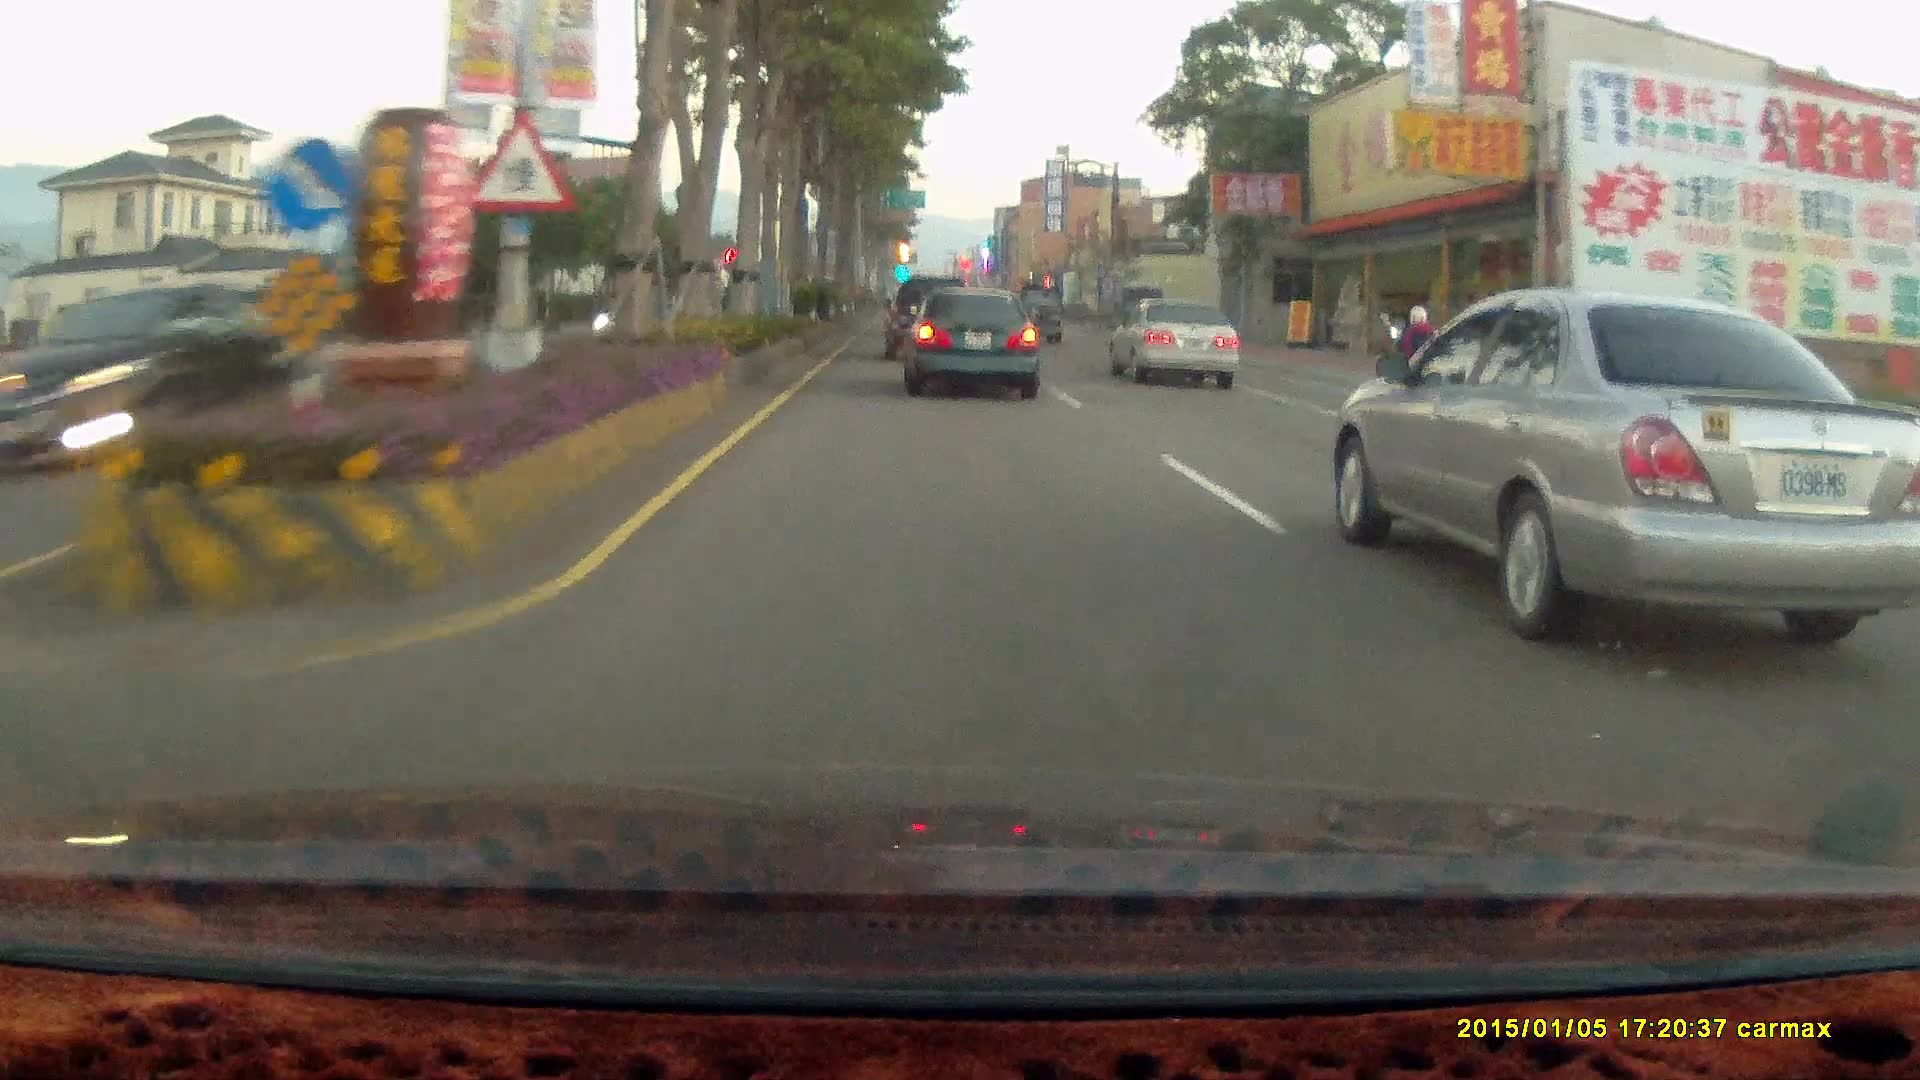rider: (1388, 301, 1447, 410), (1389, 320, 1445, 429)
vehicle: (1342, 289, 1920, 636), (0, 289, 288, 475), (57, 292, 269, 451), (899, 288, 1046, 406), (899, 290, 1042, 402), (124, 319, 300, 391), (1105, 300, 1241, 389), (1121, 303, 1251, 392), (883, 277, 975, 367), (884, 280, 968, 365), (1009, 289, 1065, 349)
